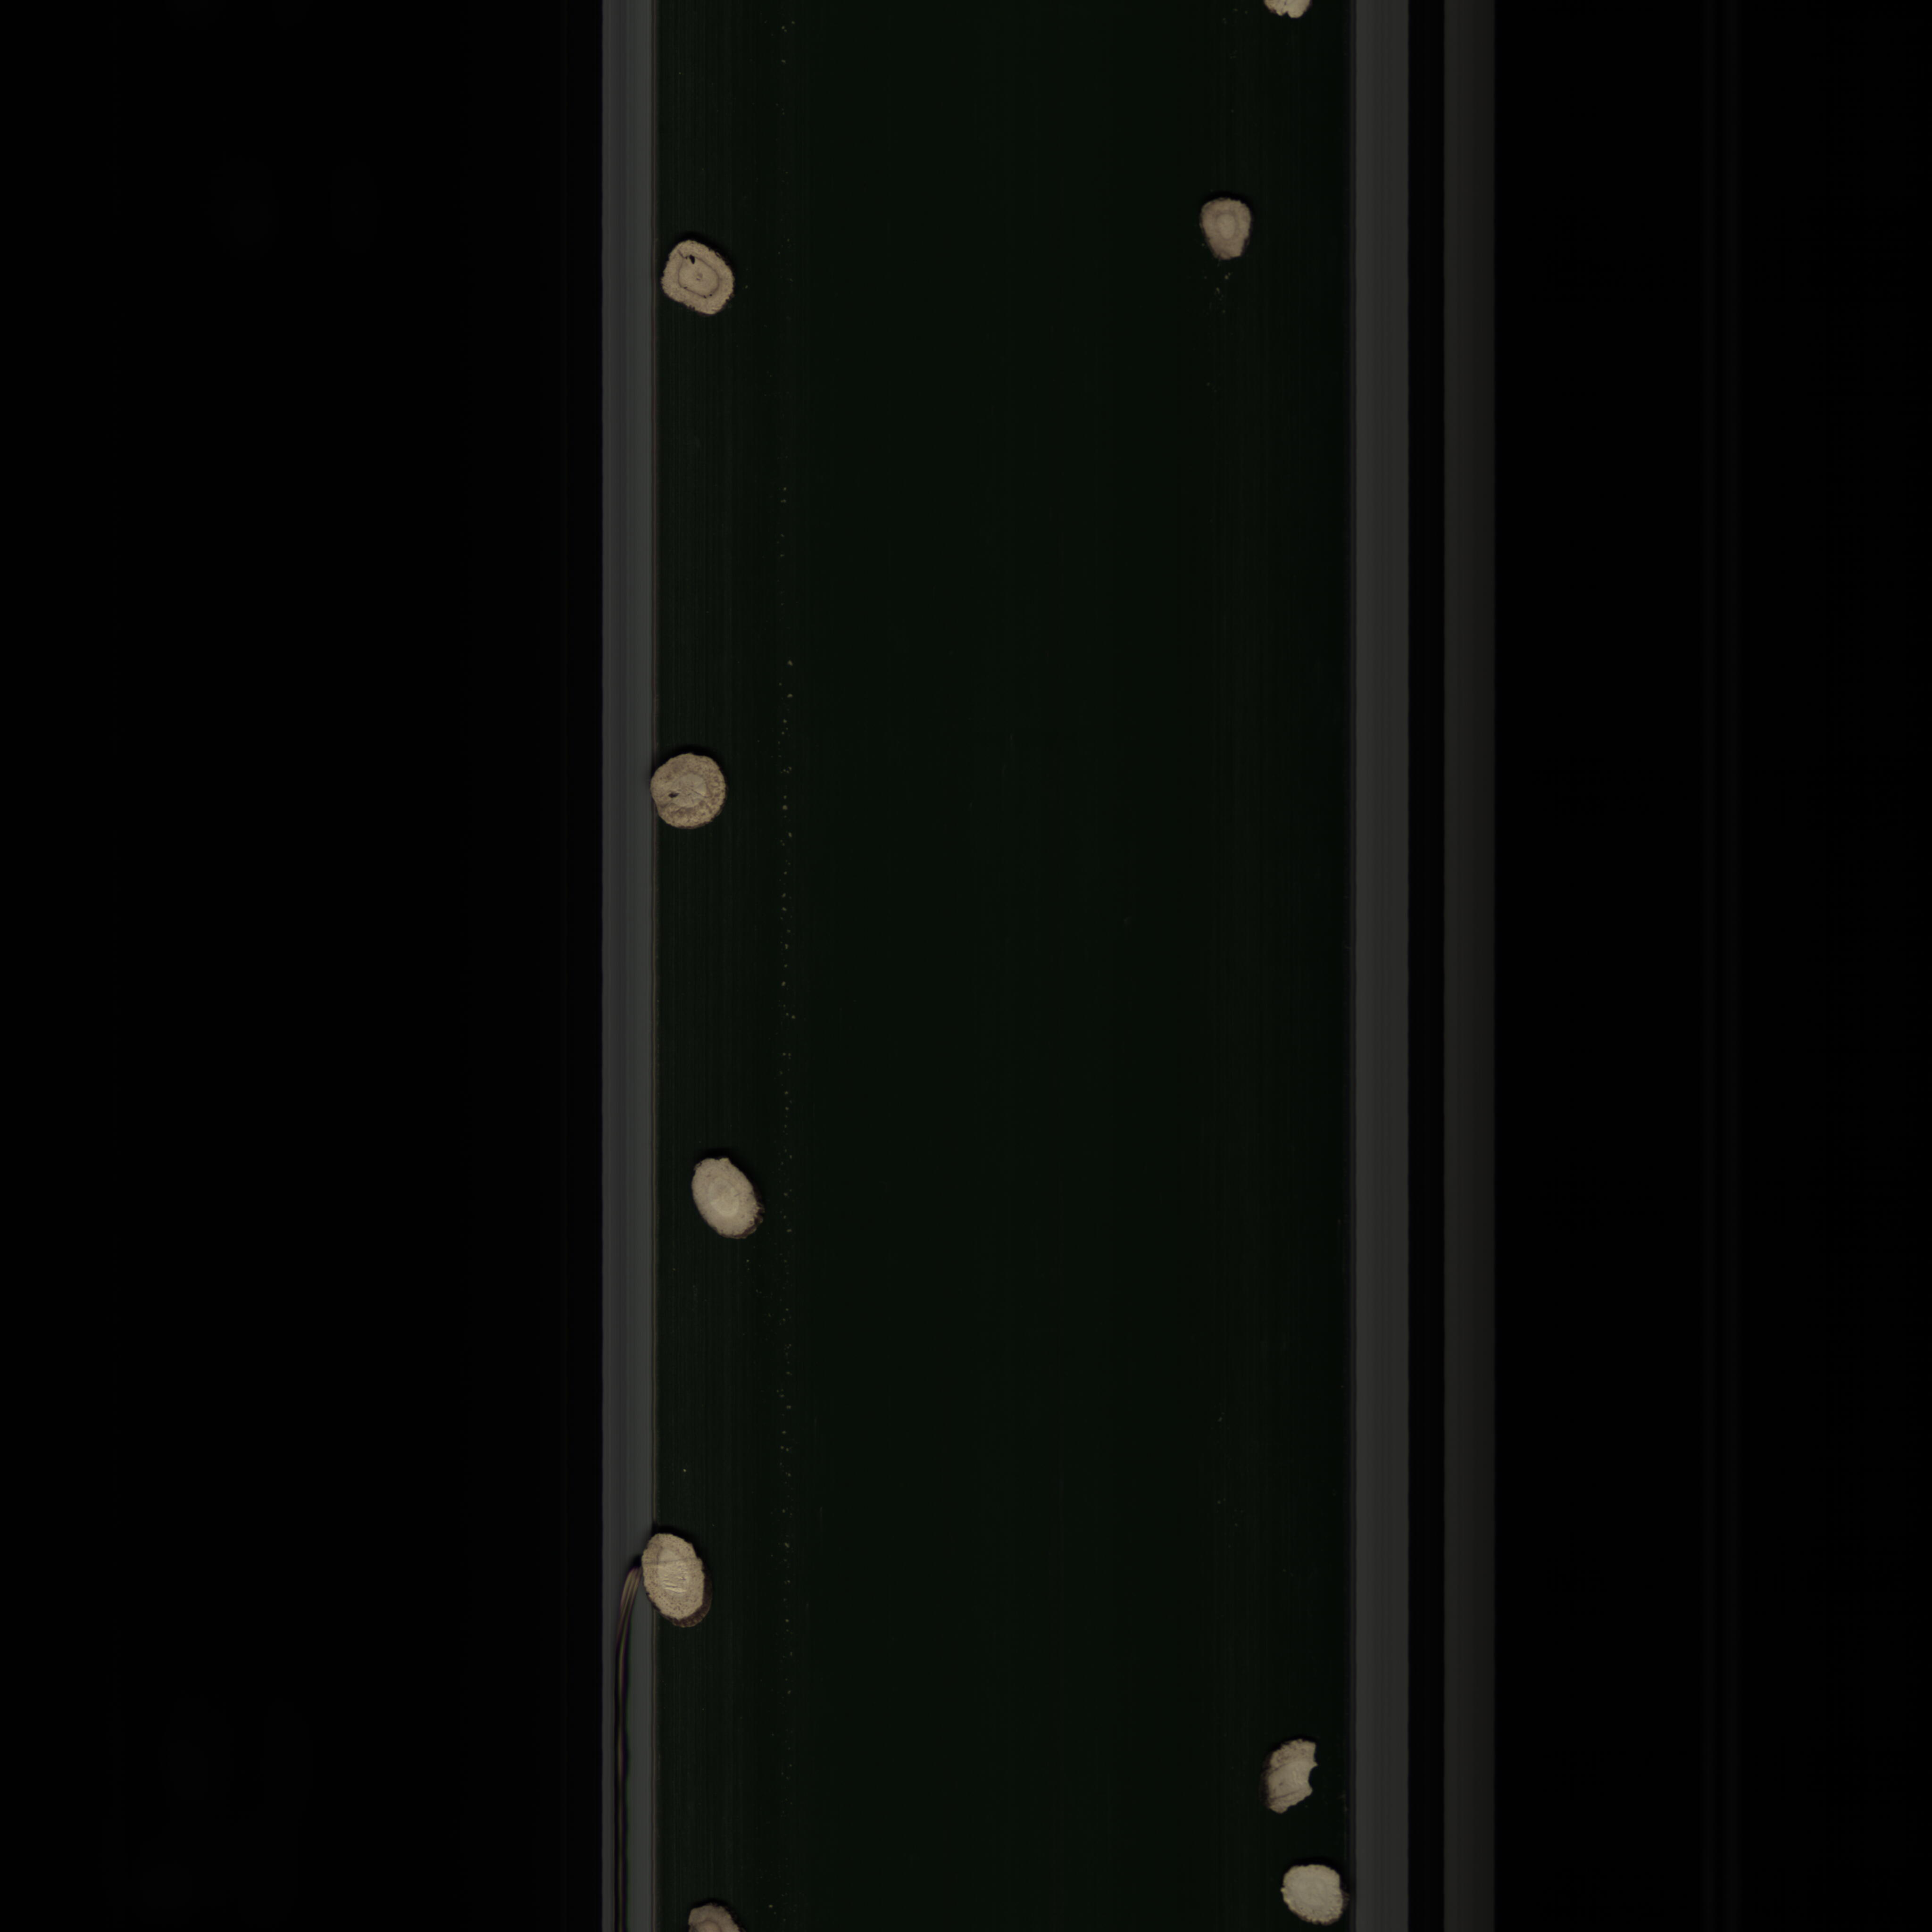debris: (1260, 1732, 1334, 1822)
hole: (663, 225, 738, 333), (648, 752, 734, 832)
moldy: (1191, 193, 1261, 272)
